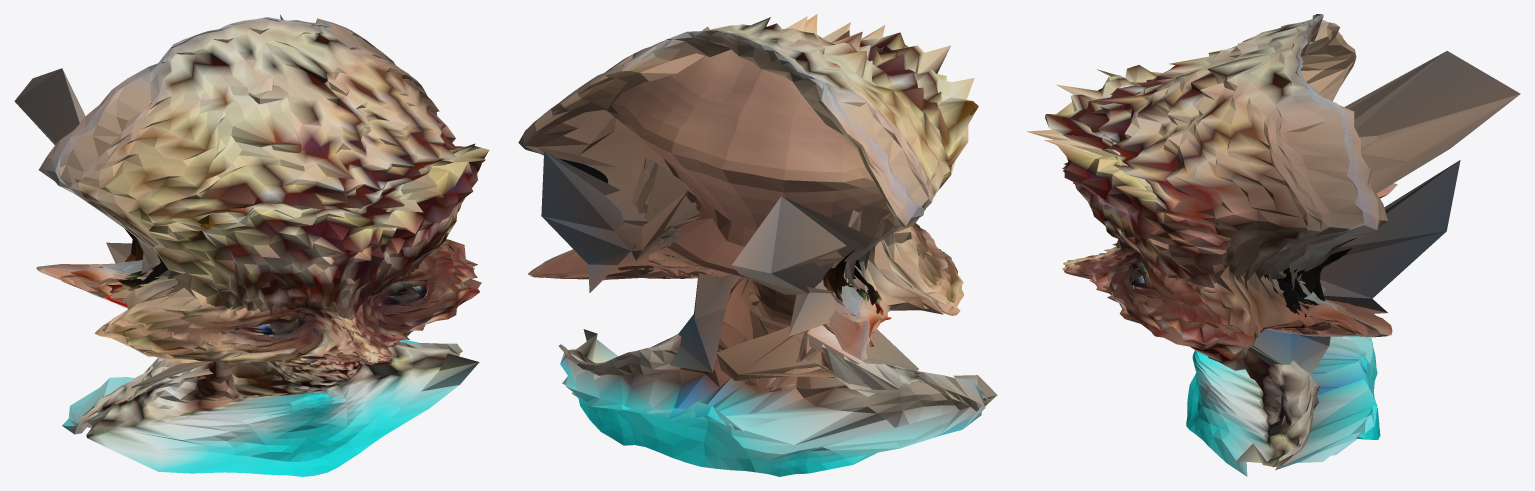
File: chibi_textured_mesh.obj
3 renders of one model, left to right at view 1: azimuth 30°, elevation 25°; view 2: azimuth 150°, elevation 25°; view 3: azimuth 270°, elevation 25°, orthographic. The views are drawn at different scales.
Size of the model in its own units: 0.3271 by 0.3176 by 0.3696.
